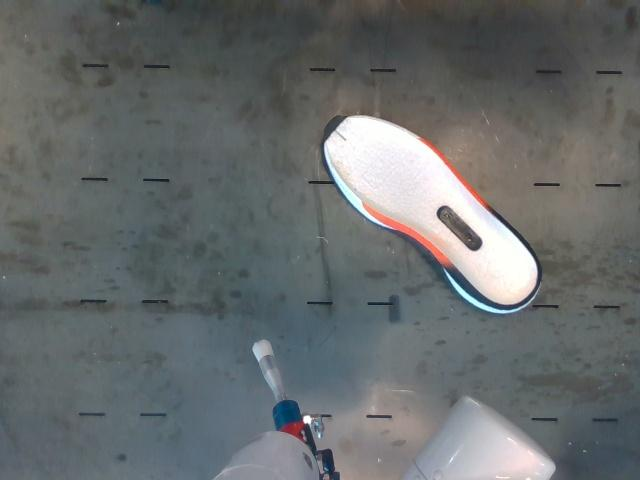shoes: (324, 114, 539, 306)
